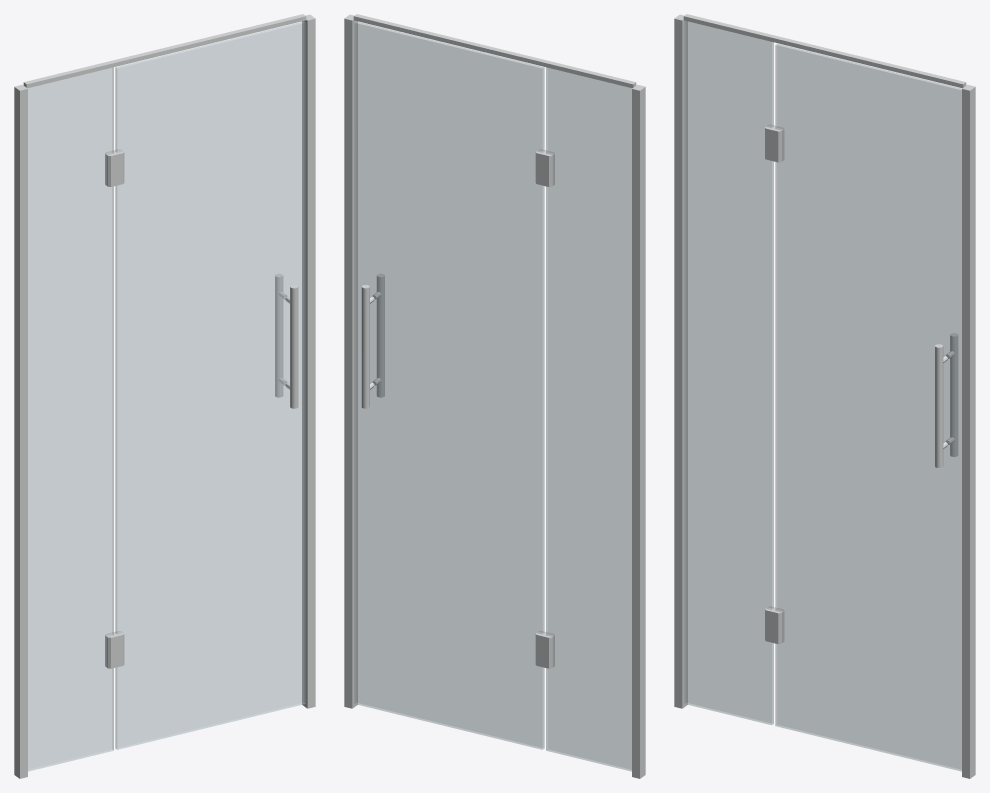
3 renders of one model, left to right at view 1: azimuth 30°, elevation 25°; view 2: azimuth 150°, elevation 25°; view 3: azimuth 330°, elevation 25°, orthographic.
Parts seen in each view (by area): view 1: Vách tắm kính Rộng=900; view 2: Vách tắm kính Rộng=900; view 3: Vách tắm kính Rộng=900.
Part boxes in pixels (x1,y1,x2,y2): Vách tắm kính Rộng=900: [14, 14, 315, 778]; Vách tắm kính Rộng=900: [344, 14, 645, 778]; Vách tắm kính Rộng=900: [674, 14, 975, 778].
Size of the model in its own units: 0.9 by 2.01 by 0.102.
